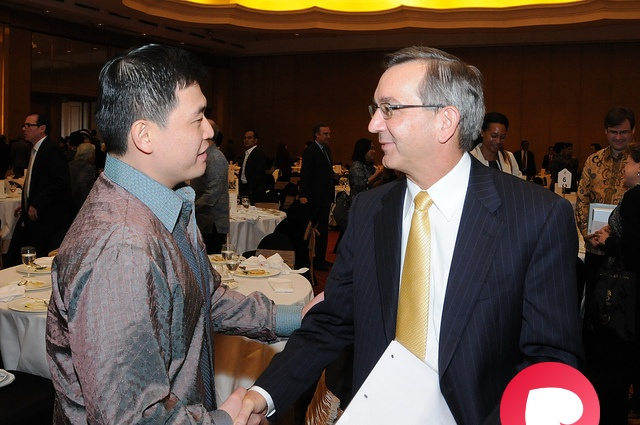love: (500, 362, 600, 425)
